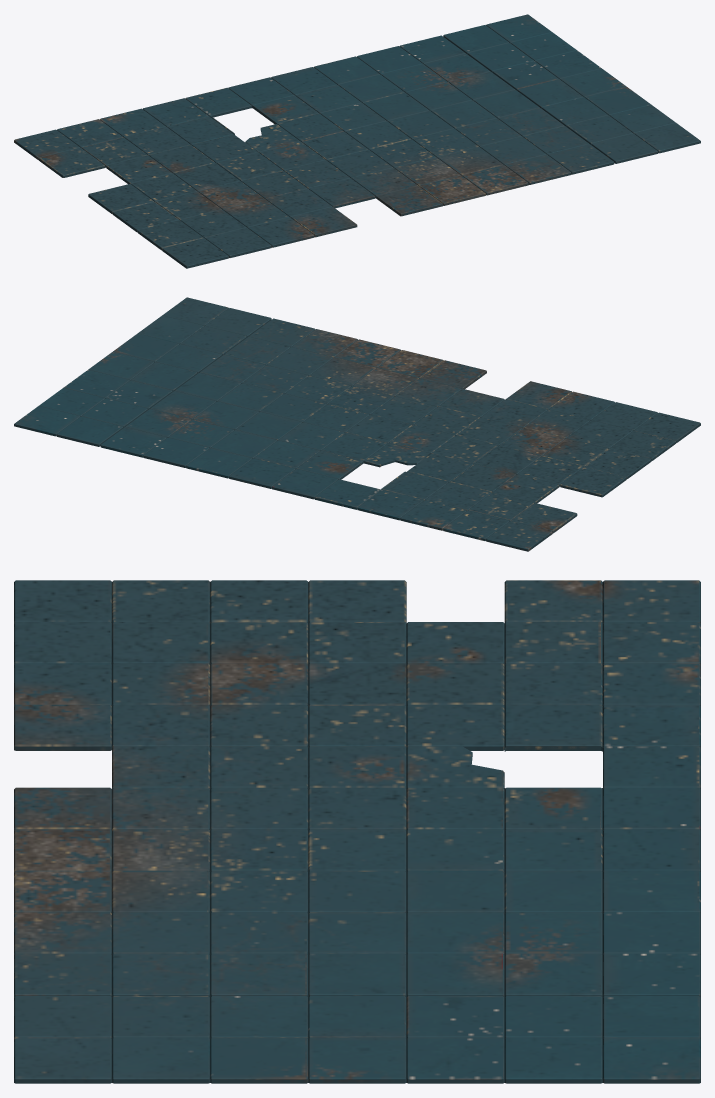
File: azule.glb
3 views of the same model, one above another, from view 1: azimuth 30°, elevation 25°; view 2: azimuth 150°, elevation 25°; view 3: azimuth 270°, elevation 25° (orthographic). The views are drawn at different scales.
Visible parts, largest first — view 1: BASE details.1156; view 2: BASE details.1156; view 3: BASE details.1156.
Boxes of the visible parts, x1=… form: BASE details.1156: x1=14, y1=14, x2=700, y2=268; BASE details.1156: x1=14, y1=297, x2=700, y2=551; BASE details.1156: x1=14, y1=580, x2=700, y2=1083.
Size of the model in its own units: 2.38 by 0.0121 by 1.39.
Materials: 1 (1 with a texture image).
